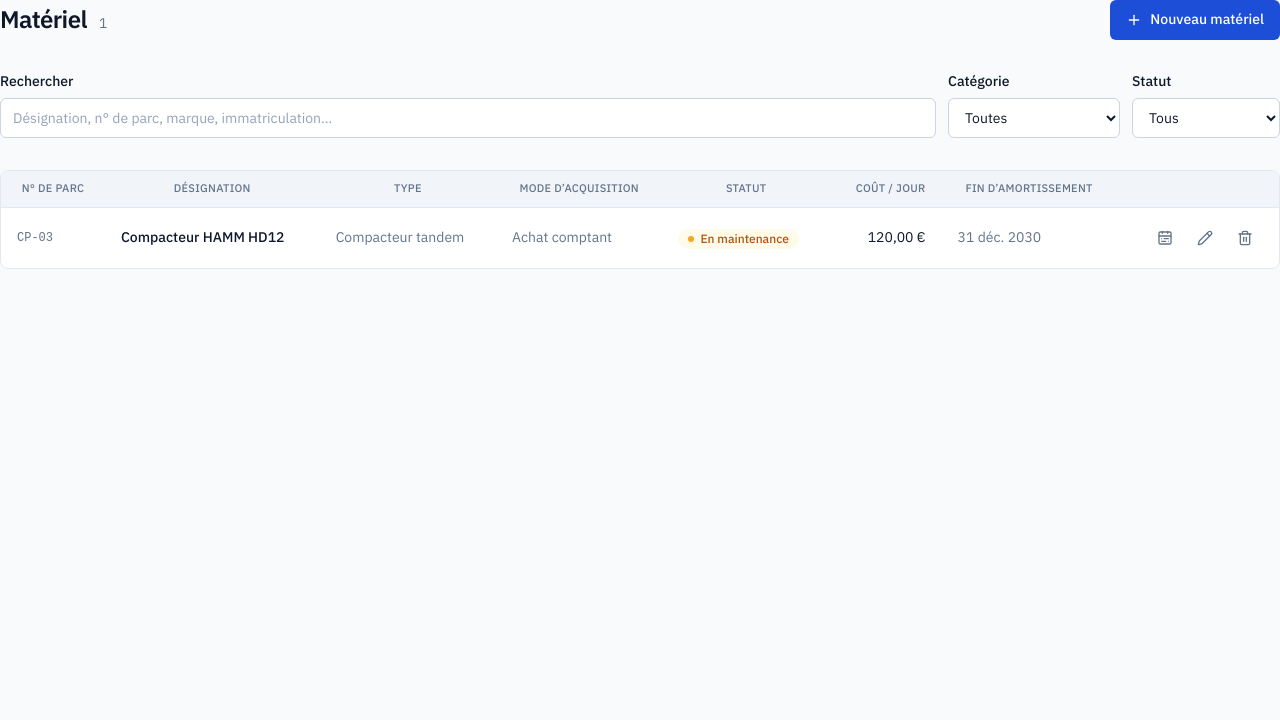
Test case: EquipmentListPage › opens the create drawer
This screenshot has width=1280, height=720.
Click the button "Nouveau matériel" at (1195, 20), box [1110,0,1279,40]
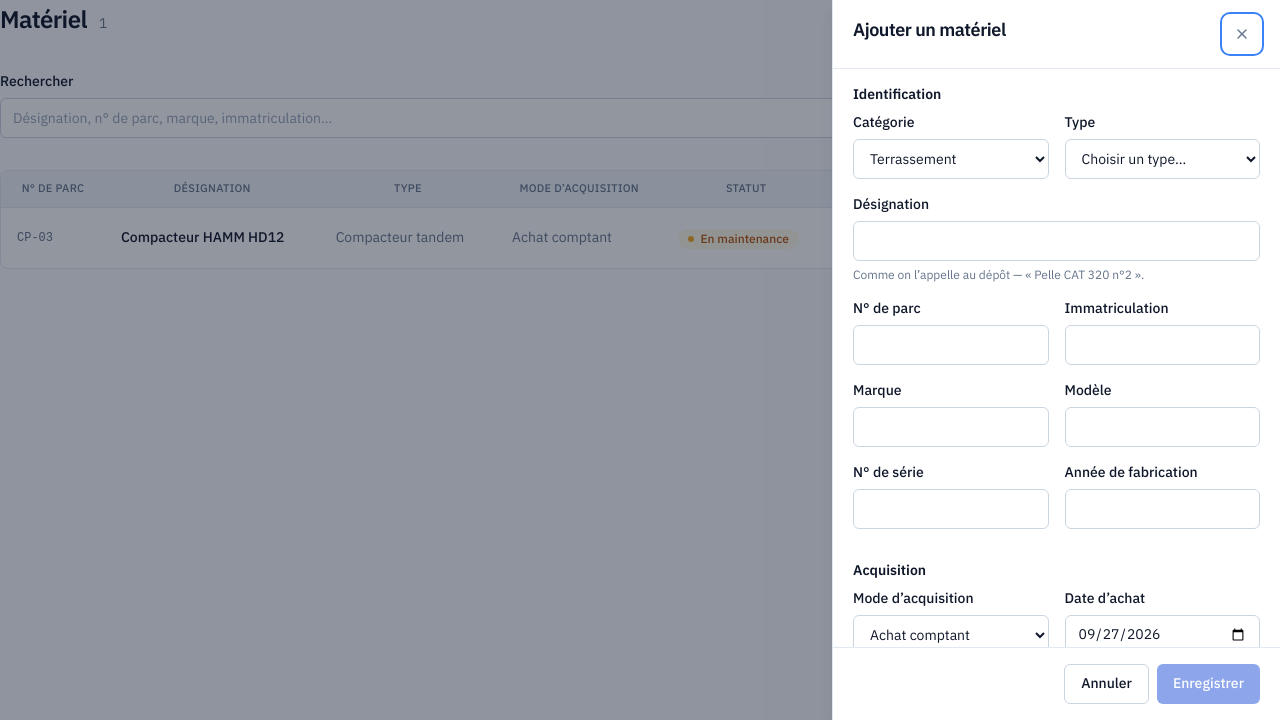
Now the heading "Ajouter un matériel" is shown, box [853,16,1006,44]
